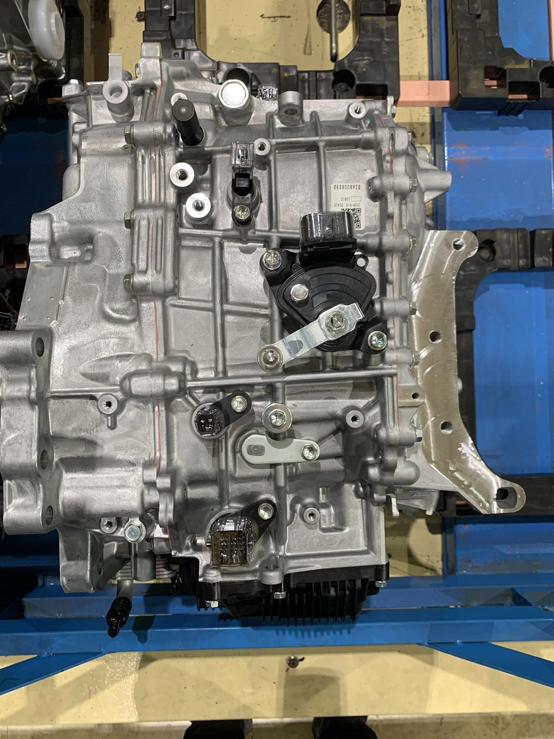gearbox_type2: (2, 55, 528, 620)
gearbox_type2_FP1: (257, 243, 391, 367)
gearbox_type2_FP2: (121, 120, 181, 297)
gearbox_type2_FP3: (116, 366, 190, 403)
